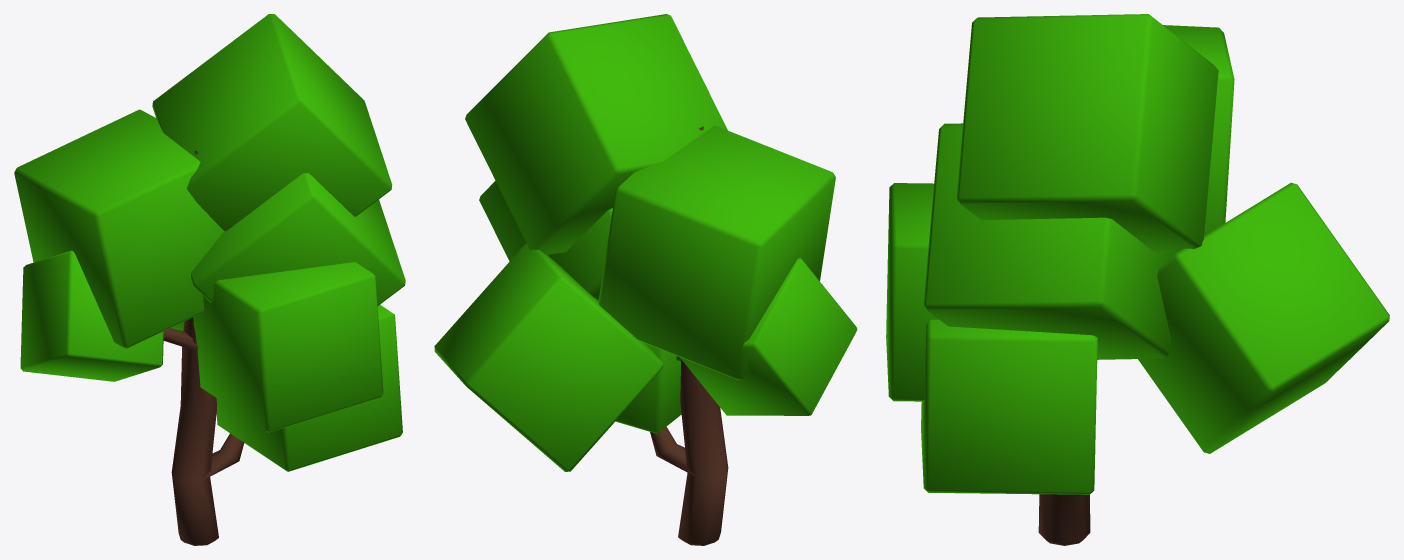
The model's file is tree-b1.glb.
3 renders of one model, left to right at view 1: azimuth 30°, elevation 25°; view 2: azimuth 150°, elevation 25°; view 3: azimuth 270°, elevation 25°, orthographic. The views are drawn at different scales.
Visible parts, largest first — view 1: tree-08.col; view 2: tree-08.col; view 3: tree-08.col.
Part boxes in pixels (x1,y1,x2,y2): tree-08.col: [14, 14, 405, 545]; tree-08.col: [434, 14, 857, 545]; tree-08.col: [886, 14, 1389, 545].
Bounding box in the file's own units: 1.09 × 1.48 × 1.15.
Materials: 1 (1 with a texture image).
